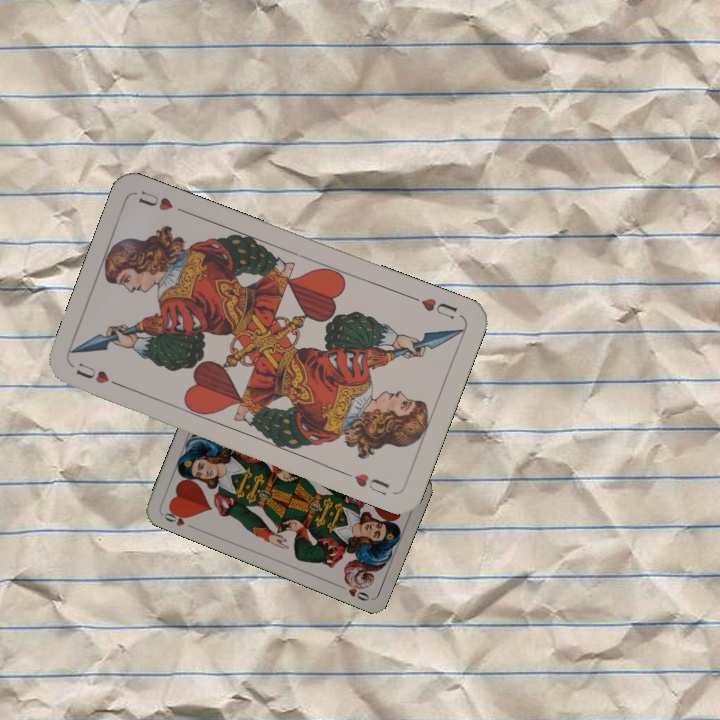HO: (160, 505, 197, 531)
HU: (72, 359, 127, 391), (407, 292, 461, 322)
